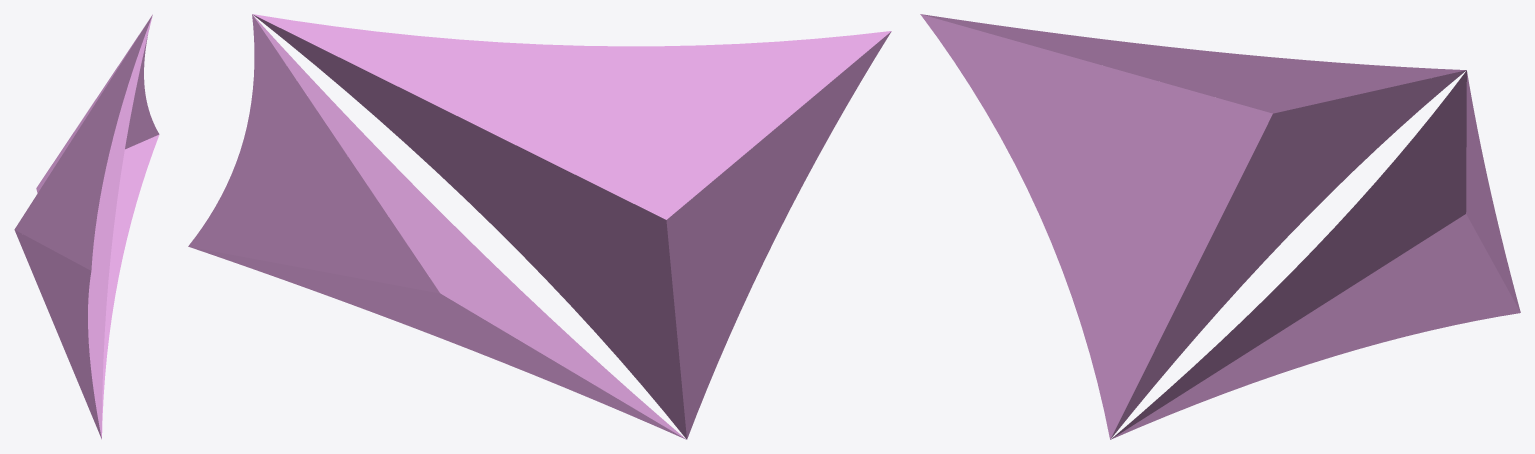
Rendered from TYPE3-2.glb.
3 views of the same model, side by side, from view 1: azimuth 30°, elevation 25°; view 2: azimuth 150°, elevation 25°; view 3: azimuth 270°, elevation 25° (orthographic). The views are drawn at different scales.
Visible parts, largest first — view 1: TYPE3-2 (×6); view 2: TYPE3-2 (×6); view 3: TYPE3-2 (×6).
Part boxes in pixels (<box>): TYPE3-2 (×6): <box>14,15,159,438</box>; TYPE3-2 (×6): <box>188,14,891,439</box>; TYPE3-2 (×6): <box>920,14,1520,439</box>.
Size of the model in its own units: 4.32 by 5 by 5.47.
